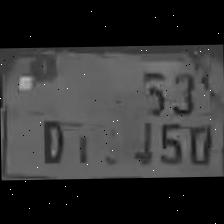0: (184, 116, 212, 165)
3: (166, 64, 196, 116)
5: (138, 69, 168, 118), (154, 116, 184, 164)
D: (34, 111, 67, 165)
J: (127, 115, 152, 164)
